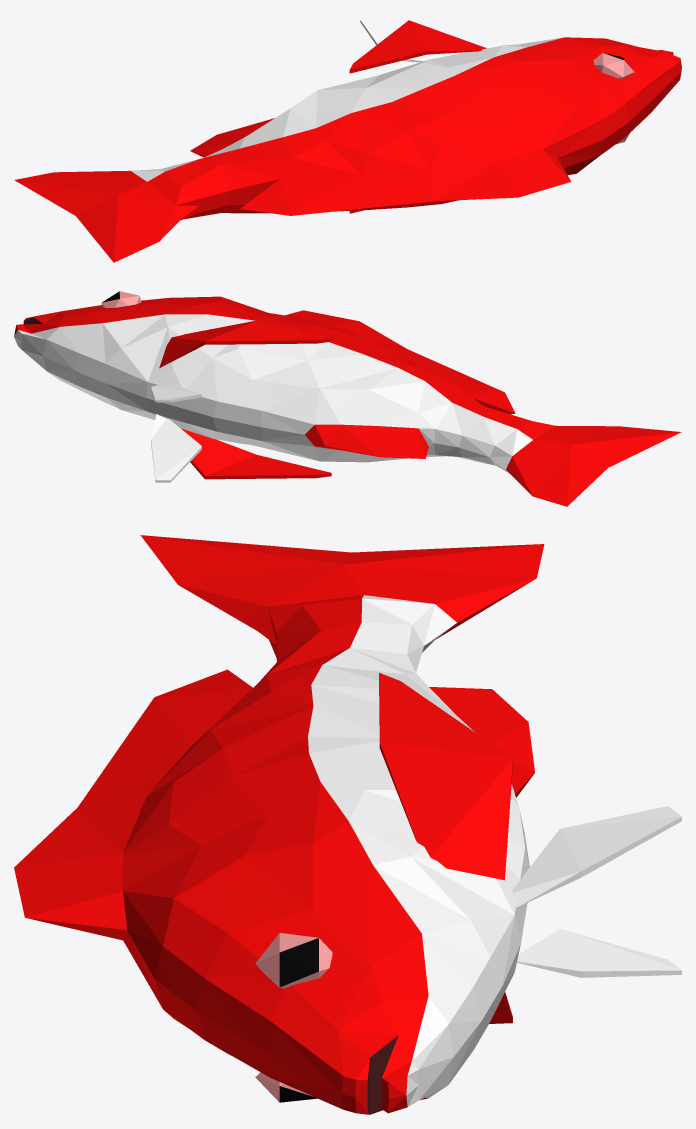
The model's file is RedSnapperDrip.glb.
3 renders of one model, top to bottom at view 1: azimuth 30°, elevation 25°; view 2: azimuth 150°, elevation 25°; view 3: azimuth 270°, elevation 25°, orthographic. The views are drawn at different scales.
Parts seen in each view (by area): view 1: RedSnapperDrip; view 2: RedSnapperDrip; view 3: RedSnapperDrip.
Boxes of the visible parts, x1,y1,x2,y2 form: RedSnapperDrip: [14, 14, 681, 262]; RedSnapperDrip: [14, 291, 681, 506]; RedSnapperDrip: [14, 535, 681, 1114].
Bounding box in the file's own units: 0.6433 × 0.1409 × 0.3224.
Materials: 1 (1 with a texture image).
